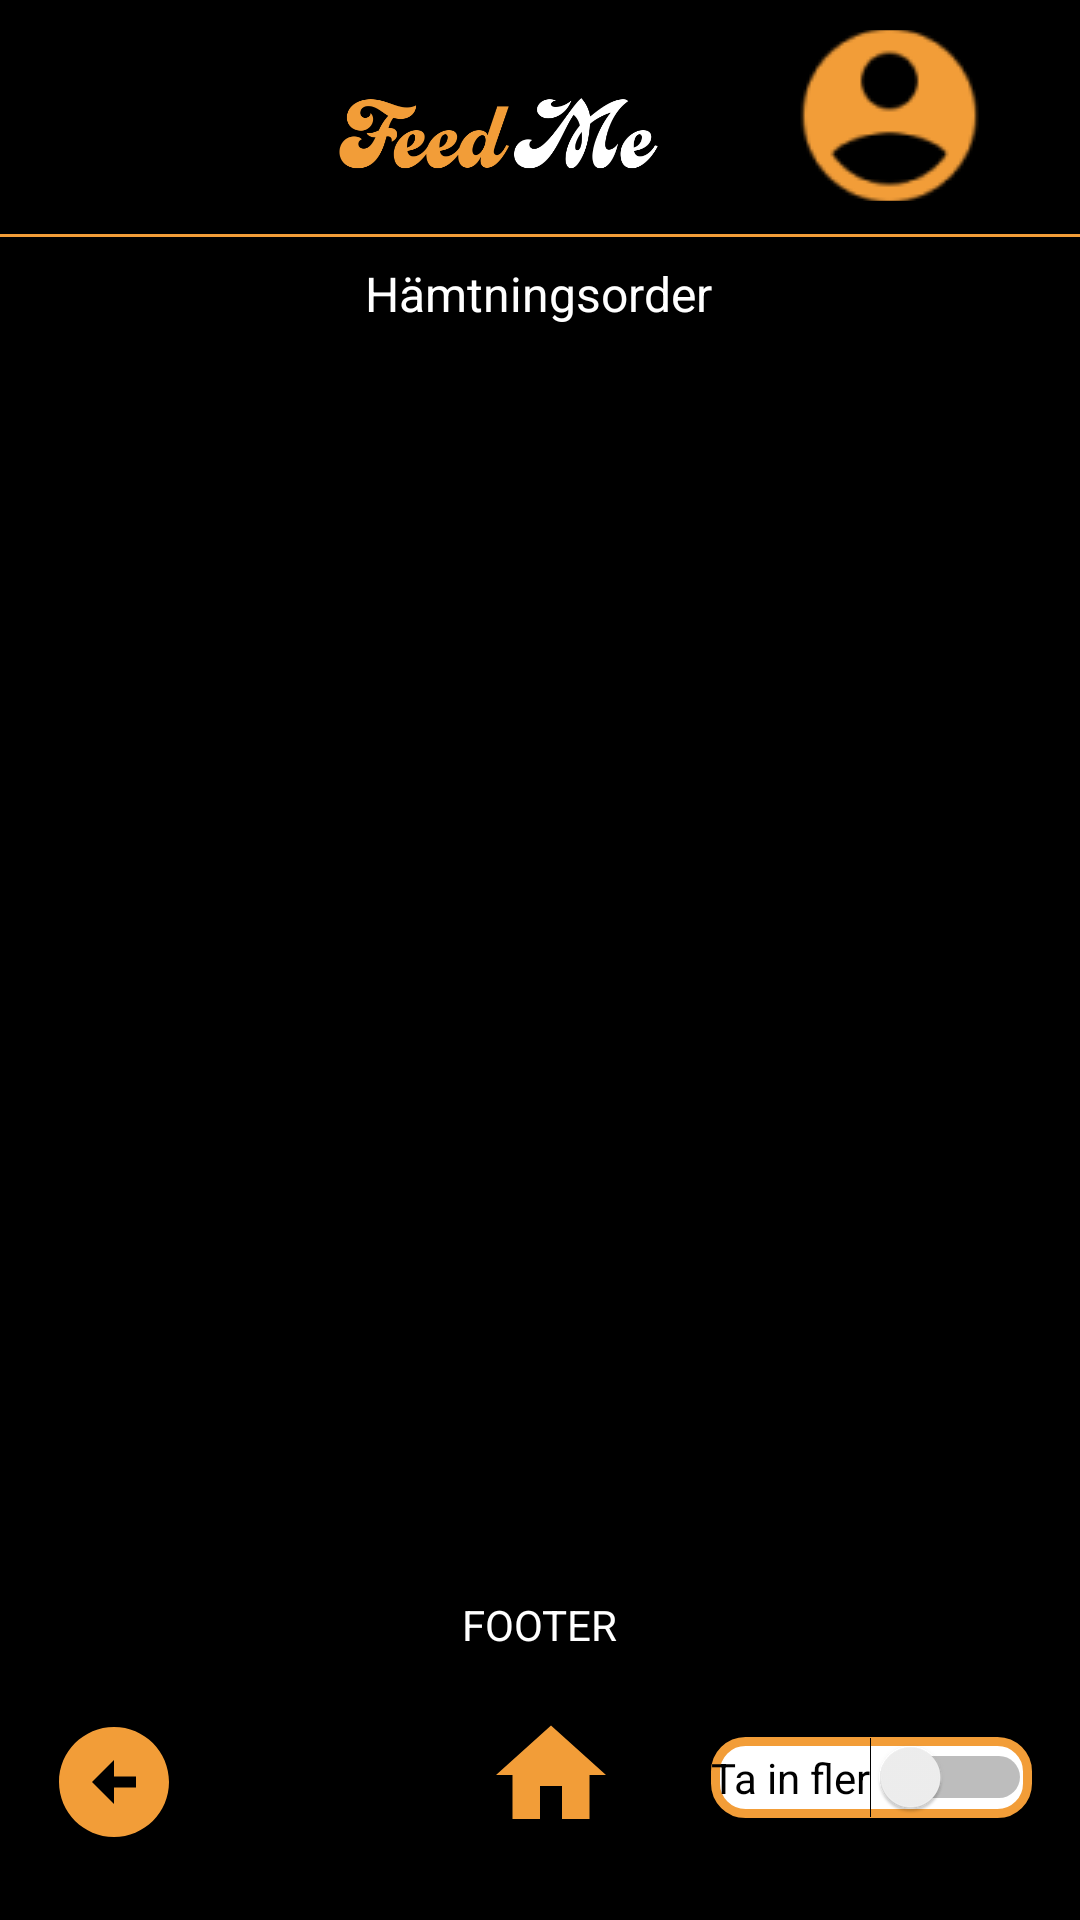

Locate icon controls on the screen. Image size 1080px x 1920px, boxes as (left=x1, top=y1, right=x2, bottom=y2).
arrow circle left: (left=59, top=1727, right=169, bottom=1837)
home: (left=496, top=1725, right=606, bottom=1819)
male user: (left=801, top=30, right=978, bottom=201)
